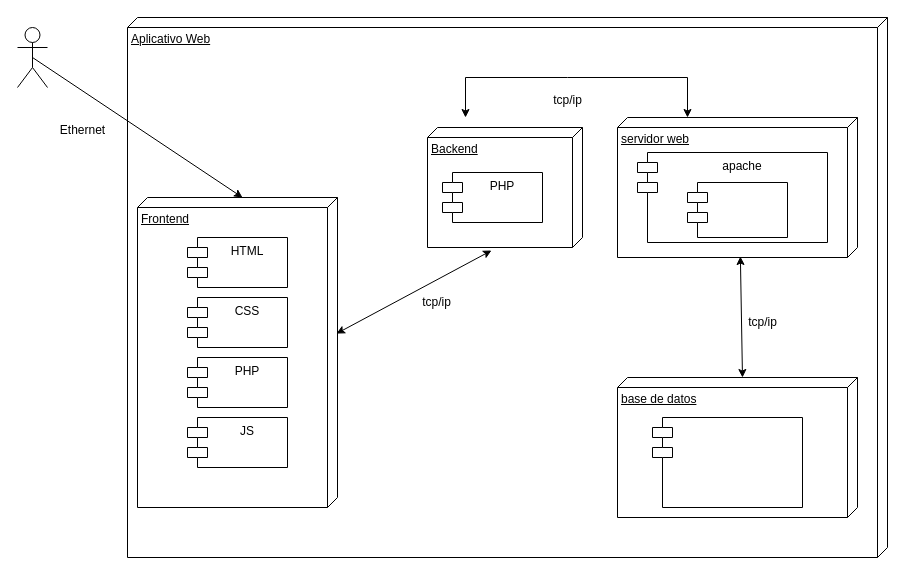
The diagram is 905 pixels wide and 575 high, and some of its shapes have lost their labels. The centre of each missing label's shape, as x and y in pixels:
"Actor" belongs at pixel 32 57.
"conexion" belongs at pixel 737 210.
"mysql" belongs at pixel 727 462.
